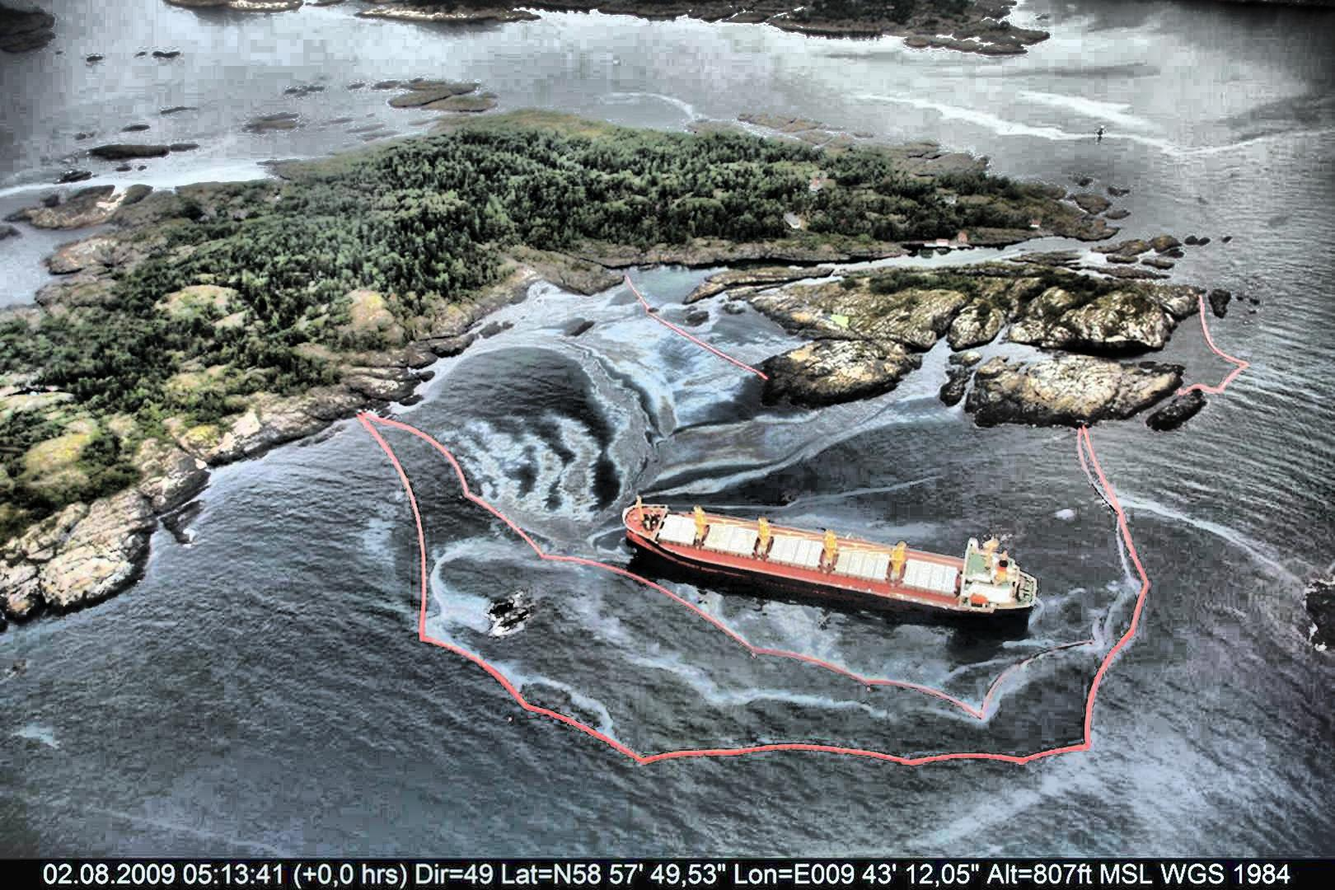sheen: (474, 279, 944, 487), (462, 417, 641, 555), (683, 304, 802, 365)
